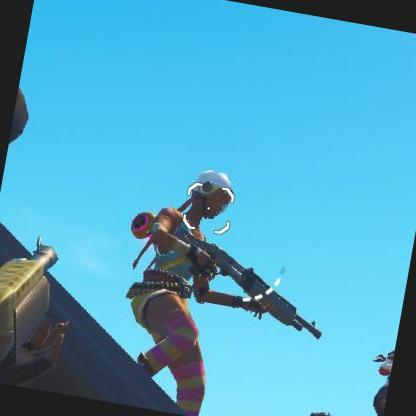person: (128, 173, 244, 406)
